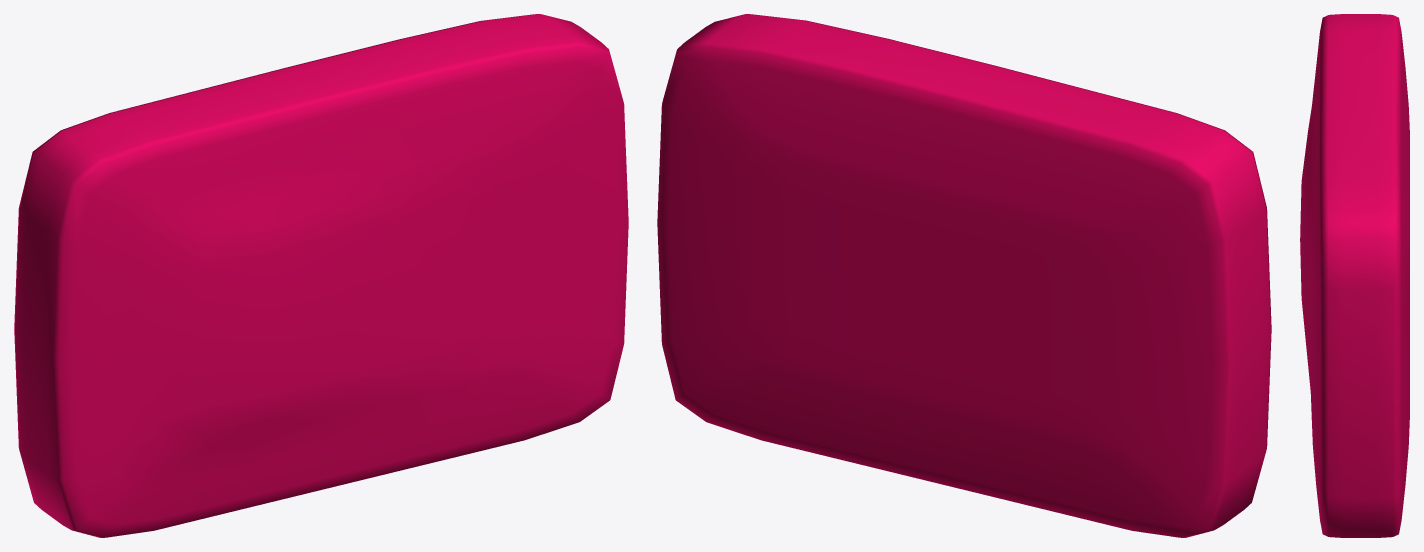
The model's file is Sofa_04_Pillow_01_Lod0.fbx.
3 renders of one model, left to right at view 1: azimuth 30°, elevation 25°; view 2: azimuth 150°, elevation 25°; view 3: azimuth 270°, elevation 25°, orthographic. The views are drawn at different scales.
Parts seen in each view (by area): view 1: Sofa_04_Pillow_01_Lod0; view 2: Sofa_04_Pillow_01_Lod0; view 3: Sofa_04_Pillow_01_Lod0.
Boxes of the visible parts, x1,y1,x2,y2 form: Sofa_04_Pillow_01_Lod0: (14, 14, 628, 537); Sofa_04_Pillow_01_Lod0: (657, 14, 1271, 537); Sofa_04_Pillow_01_Lod0: (1300, 14, 1409, 537).
Size of the model in its own units: 120 by 78.63 by 23.26.
